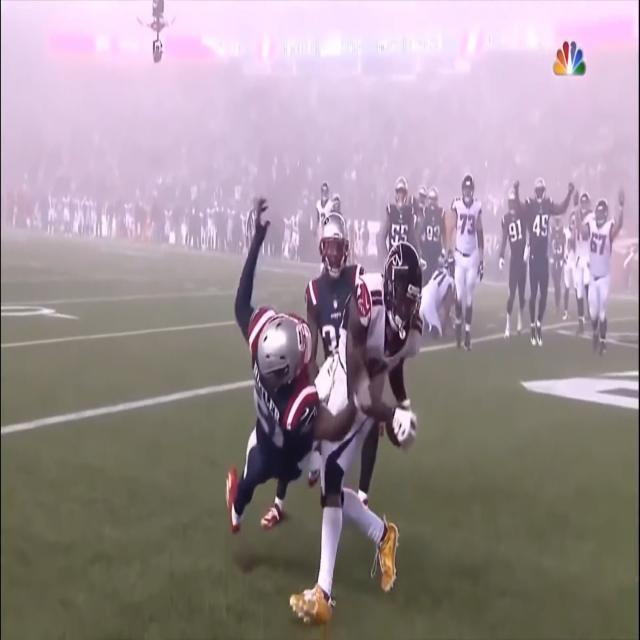football: (388, 390, 416, 451)
players: (321, 213, 414, 584), (213, 304, 328, 586), (518, 165, 579, 343), (309, 209, 360, 359), (448, 165, 482, 363), (500, 182, 530, 340), (587, 195, 613, 355), (428, 254, 458, 340), (424, 183, 446, 285), (386, 180, 415, 246)
